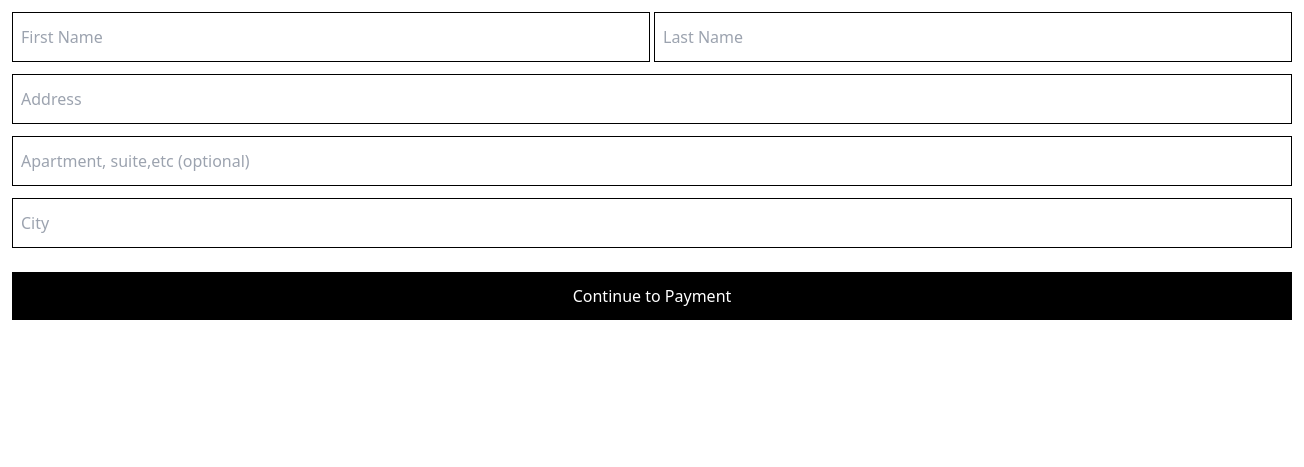
it: Shipping Information (Address Form) Test › Should Show Error Messages when Empty Form Submitted
Click the button "Continue to Payment" at (652, 296), box [12,272,1292,320]
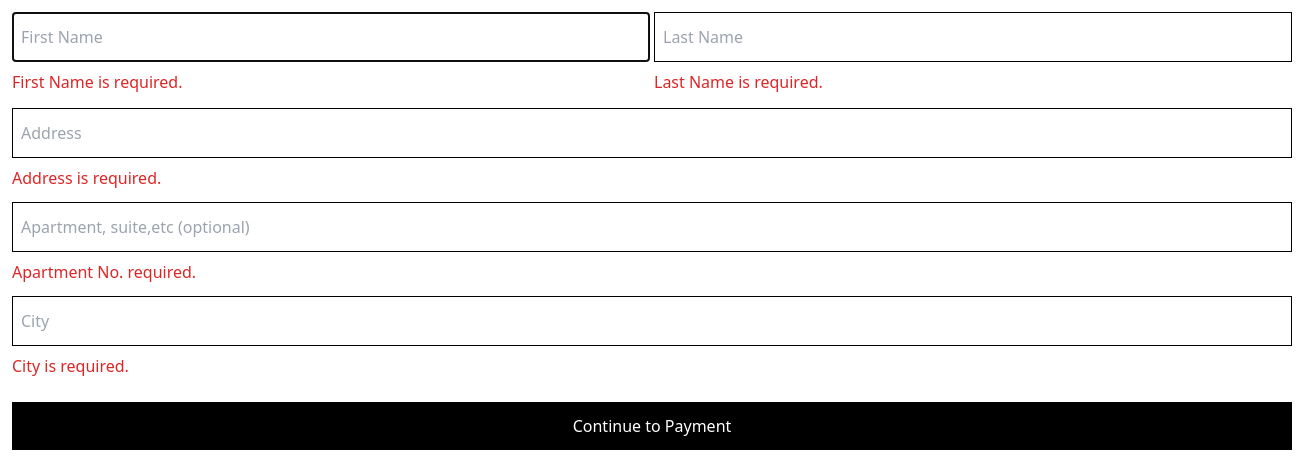
Check: the number of messages is 5, box [12,71,182,93]; [654,71,823,93]; [12,167,161,189]; [12,261,196,283]; [12,355,129,377]
